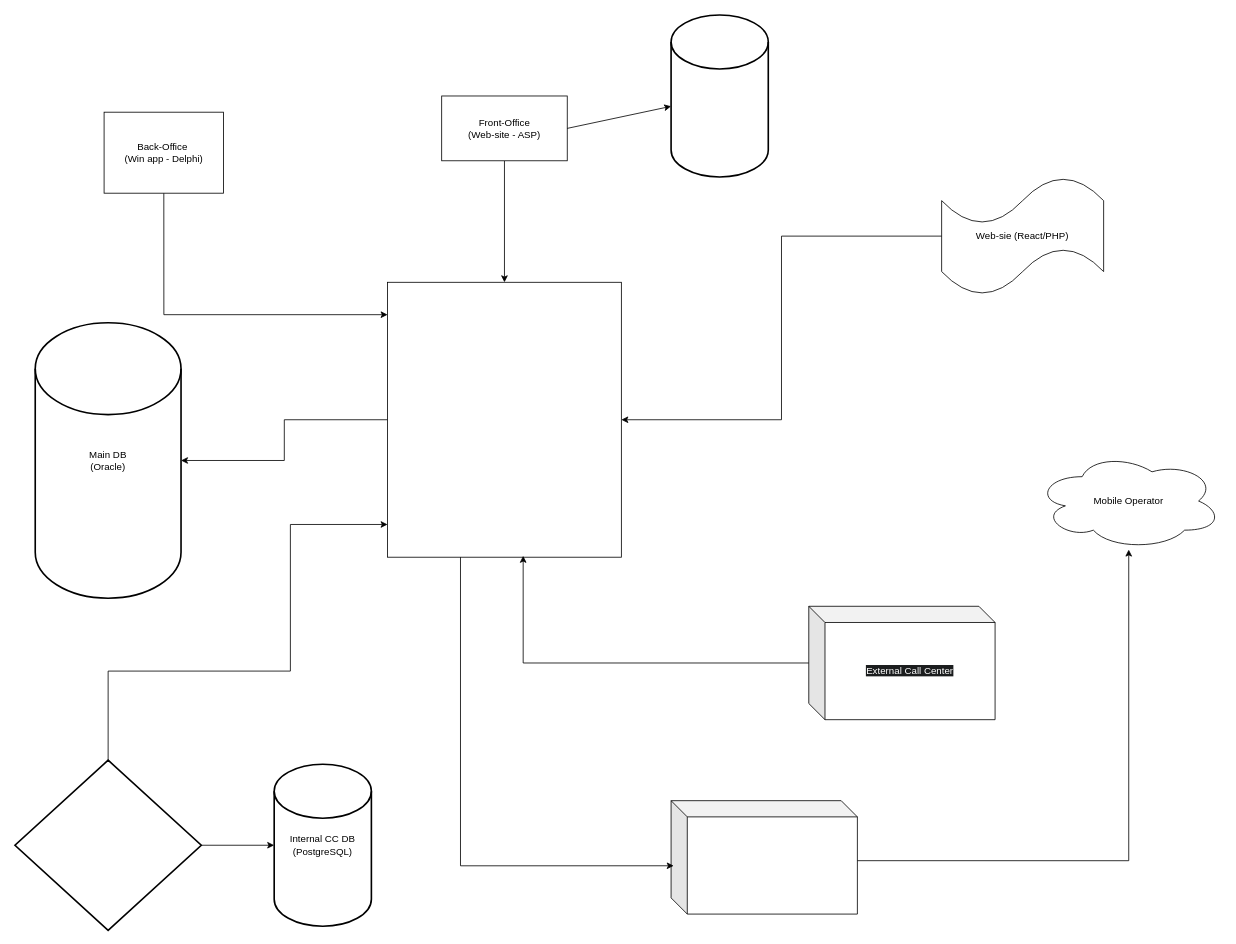
Image size: 1236x944. Some labels were removed from this diagram. The centre of each missing label's shape, as x and y in pixels:
ABS: (x=504, y=419)
Front-Office DB (MS SQL Server): (x=719, y=95)
Internal Call Center (Web-site React/Java): (x=108, y=845)
SMS Gate: (x=763, y=857)
